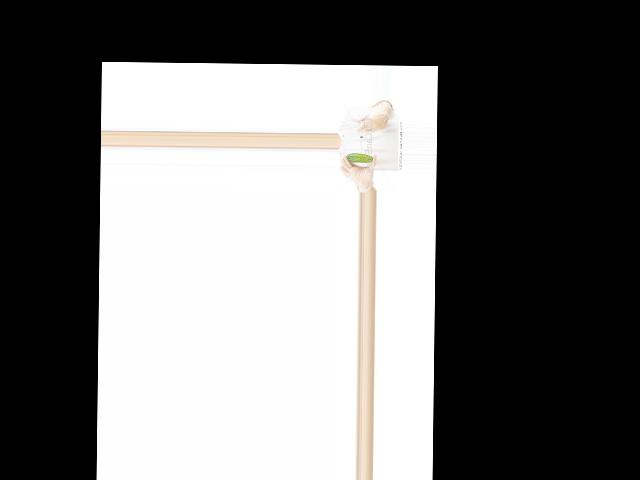cucumber: (346, 153, 374, 163)
